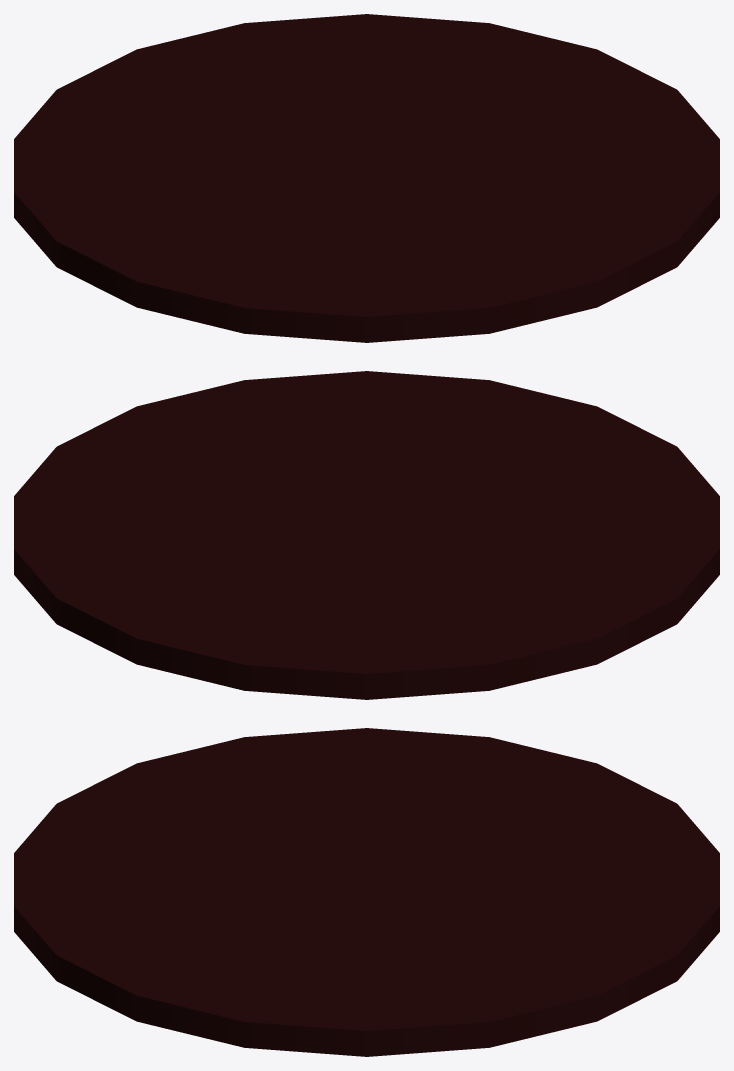
File: beef.FBX
3 views of the same model, one above another, from view 1: azimuth 30°, elevation 25°; view 2: azimuth 150°, elevation 25°; view 3: azimuth 270°, elevation 25° (orthographic).
Visible parts, largest first — view 1: Cylinder001; view 2: Cylinder001; view 3: Cylinder001.
Boxes of the visible parts, bbox=[...] form: Cylinder001: bbox=[14, 14, 719, 342]; Cylinder001: bbox=[14, 371, 719, 699]; Cylinder001: bbox=[14, 728, 719, 1056].
Size of the model in its own units: 2 by 0.08 by 1.97.
